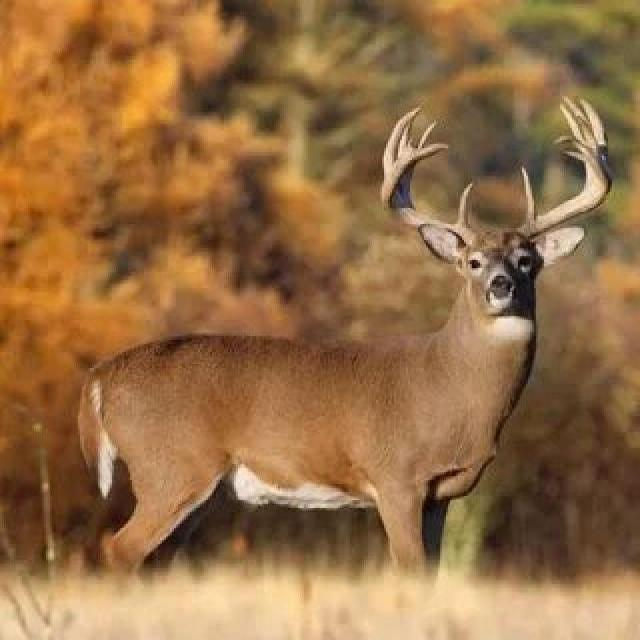deer: (51, 55, 638, 628)
